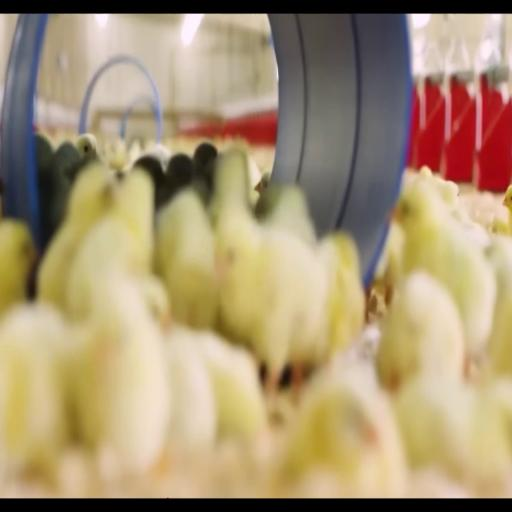chick: (211, 149, 328, 392), (216, 195, 329, 393), (73, 273, 171, 474), (394, 181, 496, 372), (280, 371, 406, 497), (396, 375, 510, 493), (66, 169, 153, 319), (0, 305, 69, 478), (37, 163, 117, 310), (376, 272, 464, 390), (155, 190, 218, 329), (189, 332, 266, 438), (395, 374, 474, 476), (165, 329, 217, 450), (319, 232, 365, 355), (464, 382, 511, 495), (38, 142, 80, 246), (111, 168, 154, 266), (255, 185, 316, 245), (0, 220, 37, 317), (486, 236, 511, 374), (209, 149, 252, 227), (367, 222, 404, 307), (133, 155, 167, 210), (138, 275, 171, 331), (419, 166, 459, 209), (192, 142, 218, 205), (166, 154, 193, 200), (193, 142, 218, 191), (145, 143, 171, 169), (108, 139, 127, 170), (76, 134, 97, 158), (489, 216, 509, 235), (503, 186, 511, 233), (128, 139, 142, 162), (256, 173, 270, 193), (0, 179, 4, 220), (419, 166, 433, 177)
